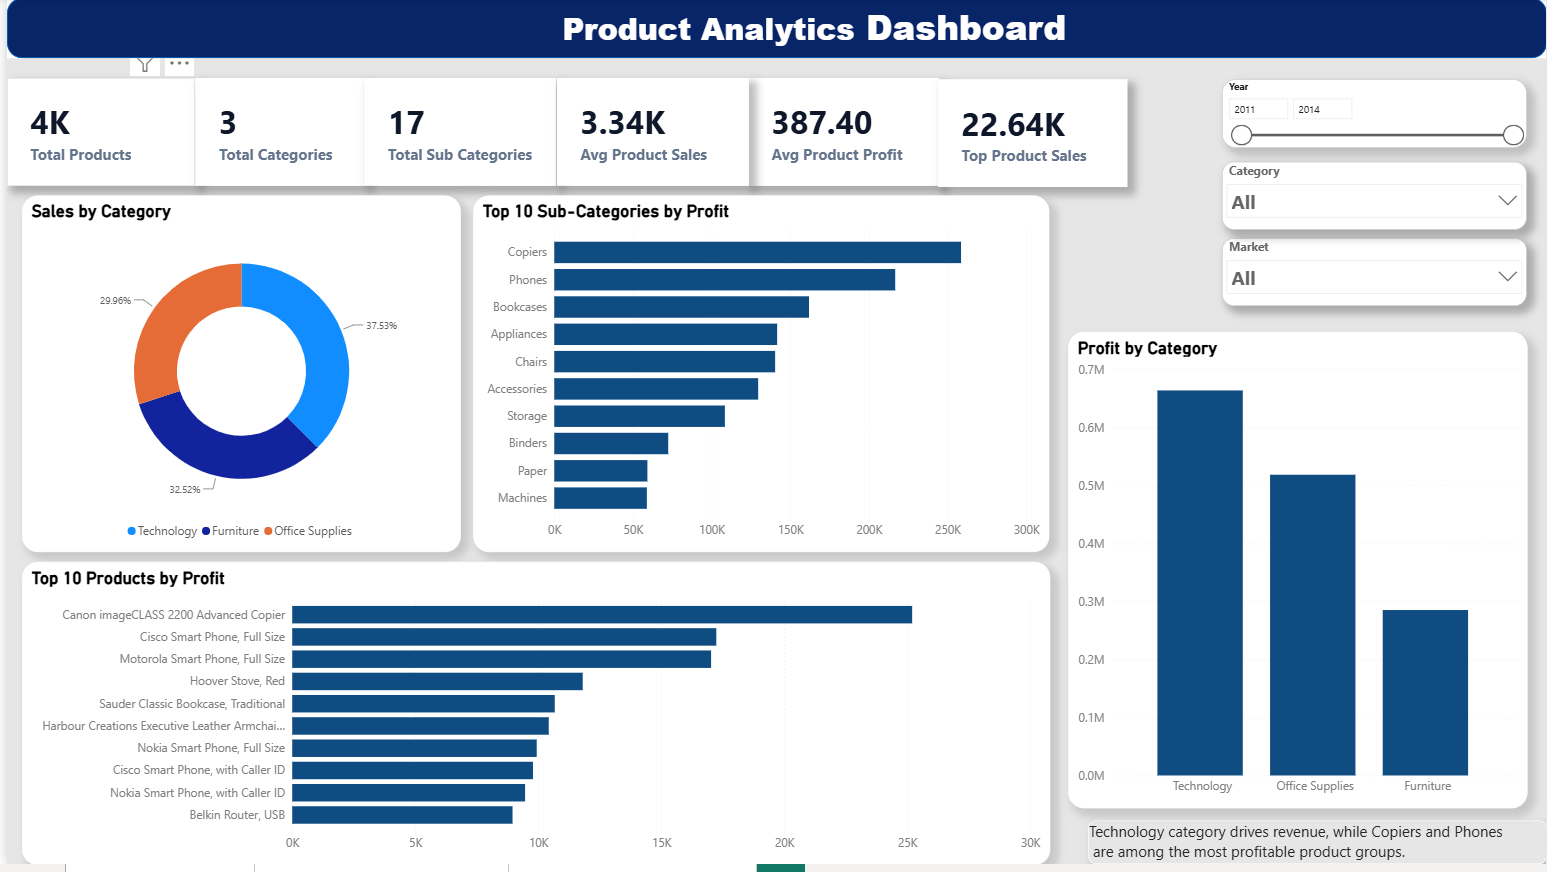

The page's visual inventory and layout, read from the dashboard file:
{"tool":"powerbi","page":{"name":"Product Analytics Dashboard","canvas":[1920,1080],"ordinal":2},"visuals":[{"type":"cardVisual","title":"Total Sales","fields":{"Data":["Measures (2).Total Products"]},"box":[0,99.4,236,134.3],"z":0},{"type":"cardVisual","title":"Total Sales","fields":{"Data":["Measures (2).Avg Product Profit"]},"box":[924.4,99.4,238,134.3],"z":1000},{"type":"cardVisual","title":"Total Sales","fields":{"Data":["Measures (2).Top Product Sales"]},"box":[1161.6,101.2,236,134.3],"z":2000},{"type":"cardVisual","title":"Total Sales","fields":{"Data":["Measures (2).Total Categories"]},"box":[235.5,99.4,211,134.3],"z":3000},{"type":"cardVisual","title":"Total Sales","fields":{"Data":["Measures (2).Total Sub Categories"]},"box":[446.5,99.4,239,134.3],"z":4000},{"type":"cardVisual","fields":{"Data":["Measures (2).Avg Product Sales"]},"box":[685.5,99.4,239,134.3],"z":5000},{"type":"slicer","fields":{"Values":["DateTable.Year"]},"box":[1515.7,101.2,380.2,85.5],"z":6000},{"type":"slicer","fields":{"Values":["Global_Superstore.Market"]},"box":[1515.7,300,380.2,85],"z":7000},{"type":"slicer","fields":{"Values":["Global_Superstore.Category"]},"box":[1515.7,204.1,380.2,85],"z":8000},{"type":"textbox","box":[1348.3,1025.6,572.1,54.1],"z":9000},{"type":"shape","box":[0,0,1920.4,75],"z":10000},{"type":"textbox","box":[198.8,0,1540.1,75],"z":11000},{"type":"donutChart","title":"Sales by Category","fields":{"Category":["Global_Superstore.Category"],"Y":["Measures (2).Total Sales"]},"box":[18,246.8,547.5,444.9],"z":11001},{"type":"clusteredBarChart","title":"Top 10 Sub-Categories by Profit","fields":{"Category":["Global_Superstore.Sub-Category"],"Y":["Measures (2).Total Profit"]},"box":[581.8,246.8,718.6,444.9],"z":11002},{"type":"clusteredBarChart","title":"Top 10 Products by Profit","fields":{"Category":["Global_Superstore.Product Name"],"Y":["Measures (2).Total Profit"]},"box":[18,702.4,1282.4,378.2],"z":11003},{"type":"clusteredColumnChart","title":"Profit by Category","fields":{"Category":["Global_Superstore.Category"],"Y":["Measures (2).Total Profit"]},"box":[1323.8,416.1,572.8,594.4],"z":11004}]}

Visuals, with their boxes in screenshot pixels (x1, y1, x2, y2), scaled from the page's 1920x1080 canvas onto the 1547x872 screenshot:
"Total Sales" cardVisual: select_region(0, 80, 190, 189)
"Total Sales" cardVisual: select_region(745, 80, 937, 189)
"Total Sales" cardVisual: select_region(936, 82, 1126, 190)
"Total Sales" cardVisual: select_region(190, 80, 360, 189)
"Total Sales" cardVisual: select_region(360, 80, 552, 189)
cardVisual - Measures (2).Avg Product Sales: select_region(552, 80, 745, 189)
slicer - DateTable.Year: select_region(1221, 82, 1528, 151)
slicer - Global_Superstore.Market: select_region(1221, 242, 1528, 311)
slicer - Global_Superstore.Category: select_region(1221, 165, 1528, 233)
textbox: select_region(1086, 828, 1546, 871)
shape: select_region(0, 0, 1546, 61)
textbox: select_region(160, 0, 1401, 61)
"Sales by Category" donutChart: select_region(15, 199, 456, 558)
"Top 10 Sub-Categories by Profit" clusteredBarChart: select_region(469, 199, 1048, 558)
"Top 10 Products by Profit" clusteredBarChart: select_region(15, 567, 1048, 871)
"Profit by Category" clusteredColumnChart: select_region(1067, 336, 1528, 816)
